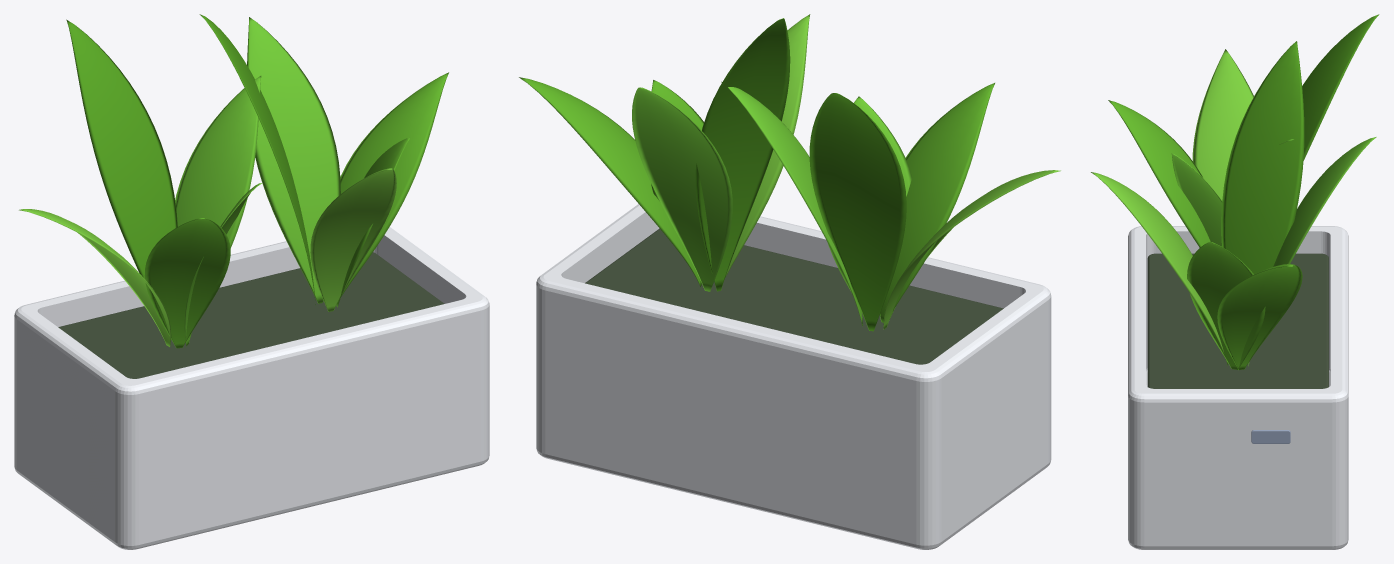
Rendered from 30-nodeworks-plant-rect-pot.glb.
The picture shows the model from 3 angles, left to right: view 1: azimuth 30°, elevation 25°; view 2: azimuth 150°, elevation 25°; view 3: azimuth 270°, elevation 25°; orthographic projection. The views are drawn at different scales.
Parts seen in each view (by area): view 1: hollow_white_rectangular_pot, recessed_soil, pointed_green_leaf_7, pointed_green_leaf_2, pointed_green_leaf_6, pointed_green_leaf_9, pointed_green_leaf_4, pointed_green_leaf_1, pointed_green_leaf_3, pointed_green_leaf_8, pointed_green_leaf_5, pointed_green_leaf_10; view 2: hollow_white_rectangular_pot, recessed_soil, pointed_green_leaf_7, pointed_green_leaf_2, pointed_green_leaf_3, pointed_green_leaf_9, pointed_green_leaf_1, pointed_green_leaf_6, pointed_green_leaf_4, pointed_green_leaf_8, pointed_green_leaf_10, pointed_green_leaf_5; view 3: hollow_white_rectangular_pot, recessed_soil, pointed_green_leaf_3, pointed_green_leaf_1, pointed_green_leaf_8, pointed_green_leaf_5, pointed_green_leaf_9, pointed_green_leaf_7, pointed_green_leaf_4, pointed_green_leaf_2, pointed_green_leaf_10, small_gray_side_label.
Part boxes in pixels (x1=…): hollow_white_rectangular_pot: x1=14, y1=227, x2=489, y2=549; recessed_soil: x1=58, y1=252, x2=444, y2=378; pointed_green_leaf_7: x1=66, y1=19, x2=177, y2=339; pointed_green_leaf_2: x1=247, y1=17, x2=340, y2=303; pointed_green_leaf_6: x1=175, y1=76, x2=261, y2=247; pointed_green_leaf_9: x1=144, y1=218, x2=230, y2=348; pointed_green_leaf_4: x1=310, y1=168, x2=396, y2=311; pointed_green_leaf_1: x1=340, y1=72, x2=448, y2=296; pointed_green_leaf_3: x1=199, y1=14, x2=315, y2=304; pointed_green_leaf_8: x1=19, y1=209, x2=171, y2=346; pointed_green_leaf_5: x1=336, y1=137, x2=410, y2=307; pointed_green_leaf_10: x1=184, y1=183, x2=261, y2=346; hollow_white_rectangular_pot: x1=536, y1=204, x2=1051, y2=549; recessed_soil: x1=585, y1=228, x2=1003, y2=364; pointed_green_leaf_7: x1=809, y1=93, x2=906, y2=331; pointed_green_leaf_2: x1=632, y1=87, x2=732, y2=291; pointed_green_leaf_3: x1=695, y1=18, x2=790, y2=291; pointed_green_leaf_9: x1=880, y1=83, x2=994, y2=322; pointed_green_leaf_1: x1=519, y1=77, x2=701, y2=286; pointed_green_leaf_6: x1=721, y1=81, x2=862, y2=326; pointed_green_leaf_4: x1=725, y1=14, x2=810, y2=277; pointed_green_leaf_8: x1=883, y1=170, x2=1060, y2=329; pointed_green_leaf_10: x1=828, y1=96, x2=911, y2=292; pointed_green_leaf_5: x1=651, y1=80, x2=703, y2=201; hollow_white_rectangular_pot: x1=1128, y1=226, x2=1348, y2=549; recessed_soil: x1=1147, y1=253, x2=1328, y2=388; pointed_green_leaf_3: x1=1221, y1=41, x2=1304, y2=274; pointed_green_leaf_1: x1=1217, y1=264, x2=1302, y2=369; pointed_green_leaf_8: x1=1192, y1=49, x2=1253, y2=200; pointed_green_leaf_5: x1=1187, y1=242, x2=1265, y2=369; pointed_green_leaf_9: x1=1108, y1=100, x2=1210, y2=247; pointed_green_leaf_7: x1=1302, y1=14, x2=1379, y2=160; pointed_green_leaf_4: x1=1091, y1=172, x2=1227, y2=365; pointed_green_leaf_2: x1=1248, y1=137, x2=1376, y2=365; pointed_green_leaf_10: x1=1171, y1=153, x2=1222, y2=246; small_gray_side_label: x1=1251, y1=430, x2=1290, y2=443.
Bounding box in the file's own units: 0.3135 × 0.28 × 0.1772.
